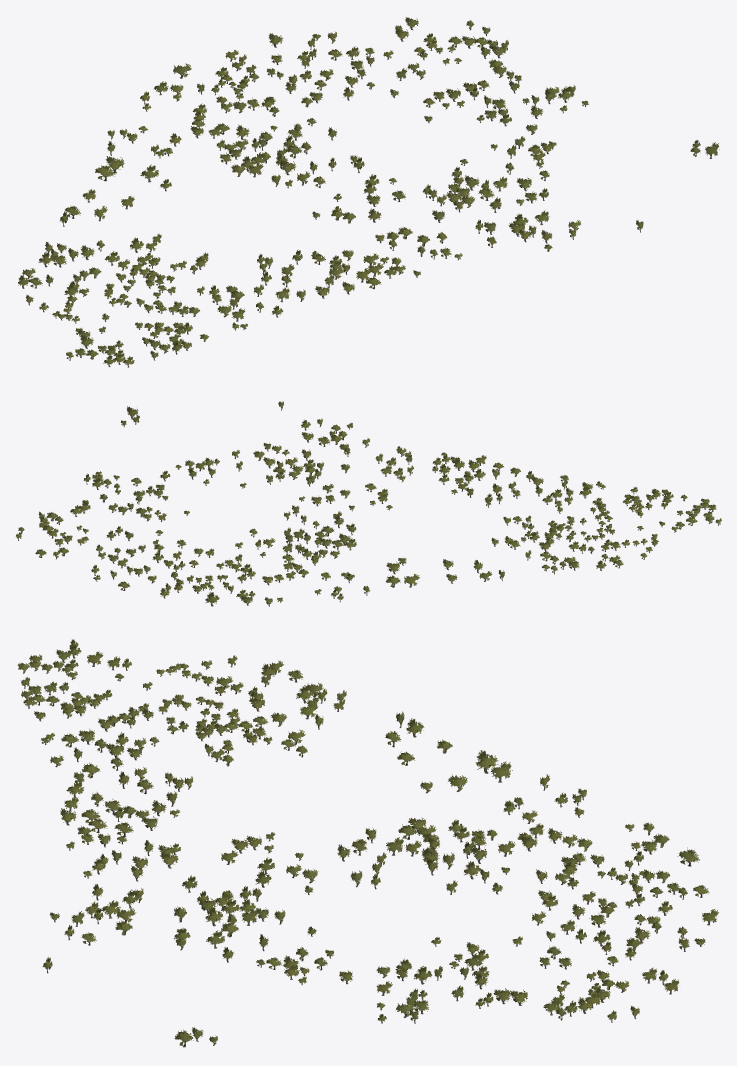
The picture shows the model from 3 angles, top to bottom: view 1: azimuth 30°, elevation 25°; view 2: azimuth 150°, elevation 25°; view 3: azimuth 270°, elevation 25°; orthographic projection. The views are drawn at different scales.
Visible parts, largest first — view 1: island_tree_01 0 2 crown, island_tree_01 2 0 crown, island_tree_01 1 2 crown, island_tree_01 0 1 crown, island_tree_01 2 1 crown, island_tree_01 2 2 crown, island_tree_01 1 1 crown, island_tree_01 1 0 crown, island_tree_01 3 0 crown, island_tree_01 3 1 crown; view 2: island_tree_01 2 0 crown, island_tree_01 0 2 crown, island_tree_01 1 2 crown, island_tree_01 0 1 crown, island_tree_01 2 1 crown, island_tree_01 2 2 crown, island_tree_01 1 1 crown, island_tree_01 1 0 crown, island_tree_01 3 0 crown, island_tree_01 3 1 crown; view 3: island_tree_01 0 2 crown, island_tree_01 2 0 crown, island_tree_01 1 2 crown, island_tree_01 2 1 crown, island_tree_01 0 1 crown, island_tree_01 2 2 crown, island_tree_01 1 0 crown, island_tree_01 1 1 crown, island_tree_01 3 0 crown, island_tree_01 3 1 crown.
Boxes of the visible parts, box(x1,y1,x2,y2) form: island_tree_01 0 2 crown: box(39, 270, 247, 365); island_tree_01 2 0 crown: box(173, 31, 444, 143); island_tree_01 1 2 crown: box(190, 231, 420, 315); island_tree_01 0 1 crown: box(18, 189, 186, 302); island_tree_01 2 1 crown: box(283, 103, 549, 219); island_tree_01 2 2 crown: box(397, 177, 580, 259); island_tree_01 1 1 crown: box(121, 138, 355, 261); island_tree_01 1 0 crown: box(95, 81, 249, 179); island_tree_01 3 0 crown: box(395, 17, 521, 91); island_tree_01 3 1 crown: box(446, 81, 588, 161); island_tree_01 2 0 crown: box(91, 513, 292, 603); island_tree_01 0 2 crown: box(548, 481, 721, 551); island_tree_01 1 2 crown: box(393, 452, 568, 523); island_tree_01 0 1 crown: box(446, 522, 647, 582); island_tree_01 2 1 crown: box(154, 450, 376, 546); island_tree_01 2 2 crown: box(253, 418, 412, 474); island_tree_01 1 1 crown: box(295, 488, 510, 571); island_tree_01 1 0 crown: box(236, 548, 419, 604); island_tree_01 3 0 crown: box(16, 500, 127, 557); island_tree_01 3 1 crown: box(83, 457, 213, 516); island_tree_01 0 2 crown: box(17, 639, 227, 750); island_tree_01 2 0 crown: box(466, 846, 718, 964); island_tree_01 1 2 crown: box(50, 743, 224, 856); island_tree_01 2 1 crown: box(215, 848, 480, 966); island_tree_01 0 1 crown: box(216, 655, 452, 752); island_tree_01 2 2 crown: box(49, 850, 224, 949); island_tree_01 1 0 crown: box(470, 750, 669, 854); island_tree_01 1 1 crown: box(222, 745, 474, 859); island_tree_01 3 0 crown: box(472, 956, 679, 1019); island_tree_01 3 1 crown: box(266, 953, 482, 1021).
Size of the model in its own units: 608 by 14.1 by 451.
2 materials, 2 textured.
